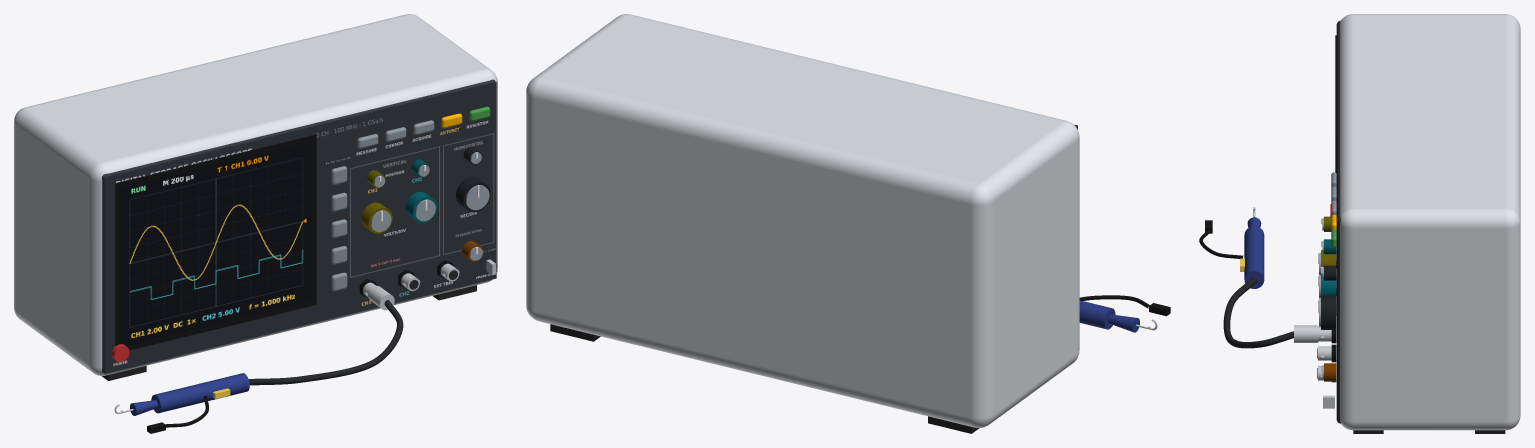
The model's file is dso.glb.
3 views of the same model, side by side, from view 1: azimuth 30°, elevation 25°; view 2: azimuth 150°, elevation 25°; view 3: azimuth 270°, elevation 25° (orthographic). The views are drawn at different scales.
Visible parts, largest first — view 1: Cabinet, FrontPanel, Screen, ScreenFrame, Bezel, ProbeHandle, ProbeCable, SecDivBody, SecDivCap; view 2: Cabinet, ProbeHandle; view 3: Cabinet, Bezel, ProbeHandle, ProbeCable, SecDivBody, ProbePlug.
Part boxes in pixels (box(x1,y1,x2,y2)): Cabinet: box(14, 14, 497, 375); FrontPanel: box(105, 82, 496, 373); Screen: box(121, 141, 311, 345); ScreenFrame: box(115, 134, 316, 350); Bezel: box(102, 79, 495, 373); ProbeHandle: box(151, 373, 249, 413); ProbeCable: box(248, 300, 403, 385); SecDivBody: box(456, 177, 490, 212); SecDivCap: box(465, 185, 489, 210); Cabinet: box(526, 14, 1079, 427); ProbeHandle: box(1079, 300, 1115, 329); Cabinet: box(1340, 14, 1520, 430); Bezel: box(1336, 20, 1340, 423); ProbeHandle: box(1244, 226, 1264, 288); ProbeCable: box(1223, 277, 1293, 348); SecDivBody: box(1321, 296, 1336, 329); ProbePlug: box(1294, 325, 1318, 342).
Size of the model in its own units: 0.3376 by 0.166 by 0.2112.
Materials: 53 (2 with a texture image).
